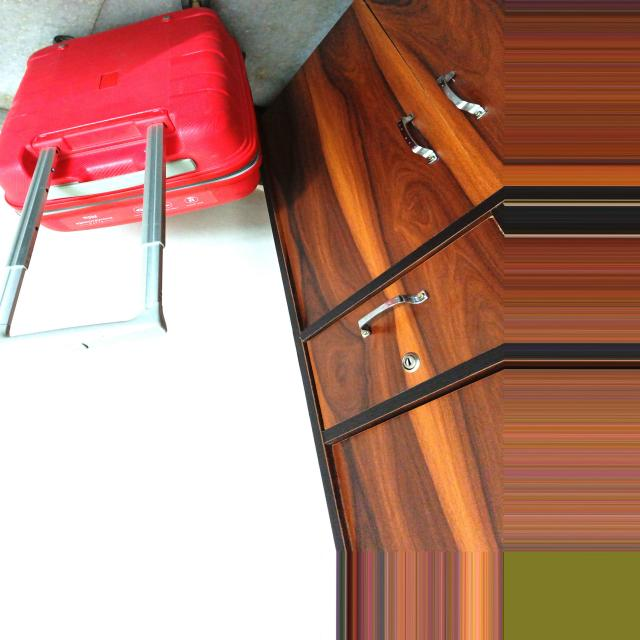Bag: (2, 0, 270, 369)
Handle: (0, 114, 181, 354)
